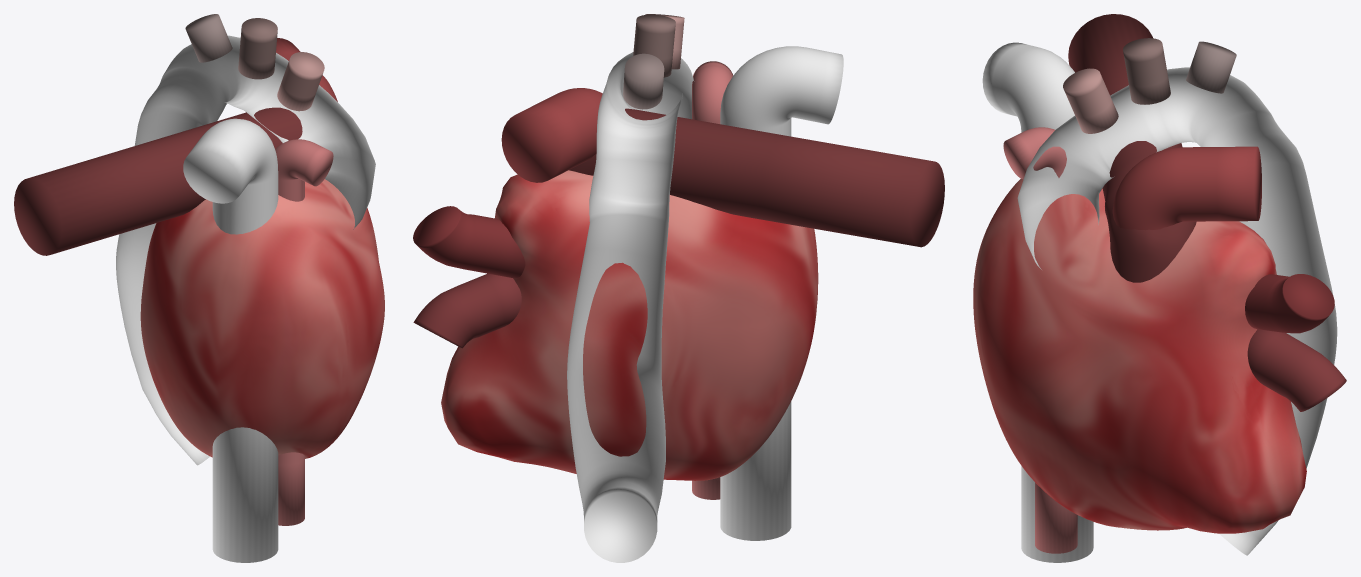
Rendered from 7ca4d2a0-68e9-11ef-802b-7bae84f678e3.glb.
3 renders of one model, left to right at view 1: azimuth 30°, elevation 25°; view 2: azimuth 150°, elevation 25°; view 3: azimuth 270°, elevation 25°, orthographic. The views are drawn at different scales.
Visible parts, largest first — view 1: Cylinder.001, Cylinder.002, Cylinder.009, Cylinder.005, Cylinder.010, Cylinder.004, Cylinder.003, Cylinder.006, Cylinder.011; view 2: Cylinder.001, Cylinder.002, Cylinder.005, Cylinder.009, Cylinder.011, Cylinder.007, Cylinder.008, Cylinder.010, Cylinder.006, Cylinder.004; view 3: Cylinder.001, Cylinder.002, Cylinder.011, Cylinder.005, Cylinder.009, Cylinder.008, Cylinder.007, Cylinder.010, Cylinder.004, Cylinder.003, Cylinder.006.
Part boxes in pixels (left/top/right/bottom): Cylinder.001: left=140, top=179, right=384, bottom=458; Cylinder.002: left=116, top=35, right=375, bottom=465; Cylinder.009: left=183, top=118, right=278, bottom=562; Cylinder.005: left=14, top=107, right=302, bottom=255; Cylinder.010: left=275, top=139, right=333, bottom=525; Cylinder.004: left=238, top=18, right=277, bottom=79; Cylinder.003: left=277, top=52, right=324, bottom=111; Cylinder.006: left=185, top=14, right=232, bottom=62; Cylinder.011: left=276, top=38, right=337, bottom=101; Cylinder.001: left=441, top=170, right=818, bottom=480; Cylinder.002: left=567, top=52, right=694, bottom=562; Cylinder.005: left=569, top=108, right=944, bottom=247; Cylinder.009: left=720, top=46, right=843, bottom=540; Cylinder.011: left=501, top=88, right=602, bottom=182; Cylinder.007: left=413, top=206, right=525, bottom=278; Cylinder.008: left=413, top=273, right=521, bottom=348; Cylinder.010: left=692, top=61, right=733, bottom=499; Cylinder.006: left=623, top=53, right=664, bottom=109; Cylinder.004: left=633, top=14, right=675, bottom=77; Cylinder.001: left=973, top=179, right=1306, bottom=533; Cylinder.002: left=1017, top=67, right=1337, bottom=555; Cylinder.011: left=1112, top=146, right=1261, bottom=230; Cylinder.005: left=1068, top=14, right=1196, bottom=282; Cylinder.009: left=982, top=42, right=1093, bottom=562; Cylinder.008: left=1247, top=329, right=1346, bottom=411; Cylinder.007: left=1245, top=274, right=1334, bottom=333; Cylinder.010: left=1003, top=127, right=1077, bottom=553; Cylinder.004: left=1123, top=38, right=1170, bottom=104; Cylinder.003: left=1063, top=68, right=1118, bottom=133; Cylinder.006: left=1186, top=41, right=1236, bottom=93.
Bounding box in the file's own units: 4.06 × 4.84 × 3.08.
Materials: 9 (1 with a texture image).
